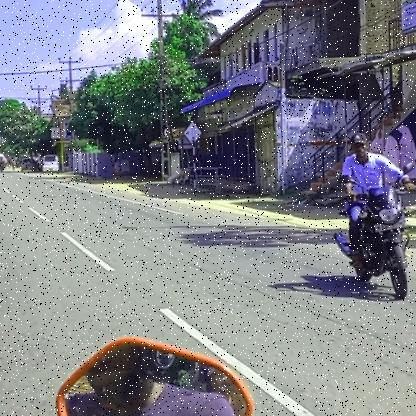motorcycle: (333, 184, 416, 302)
